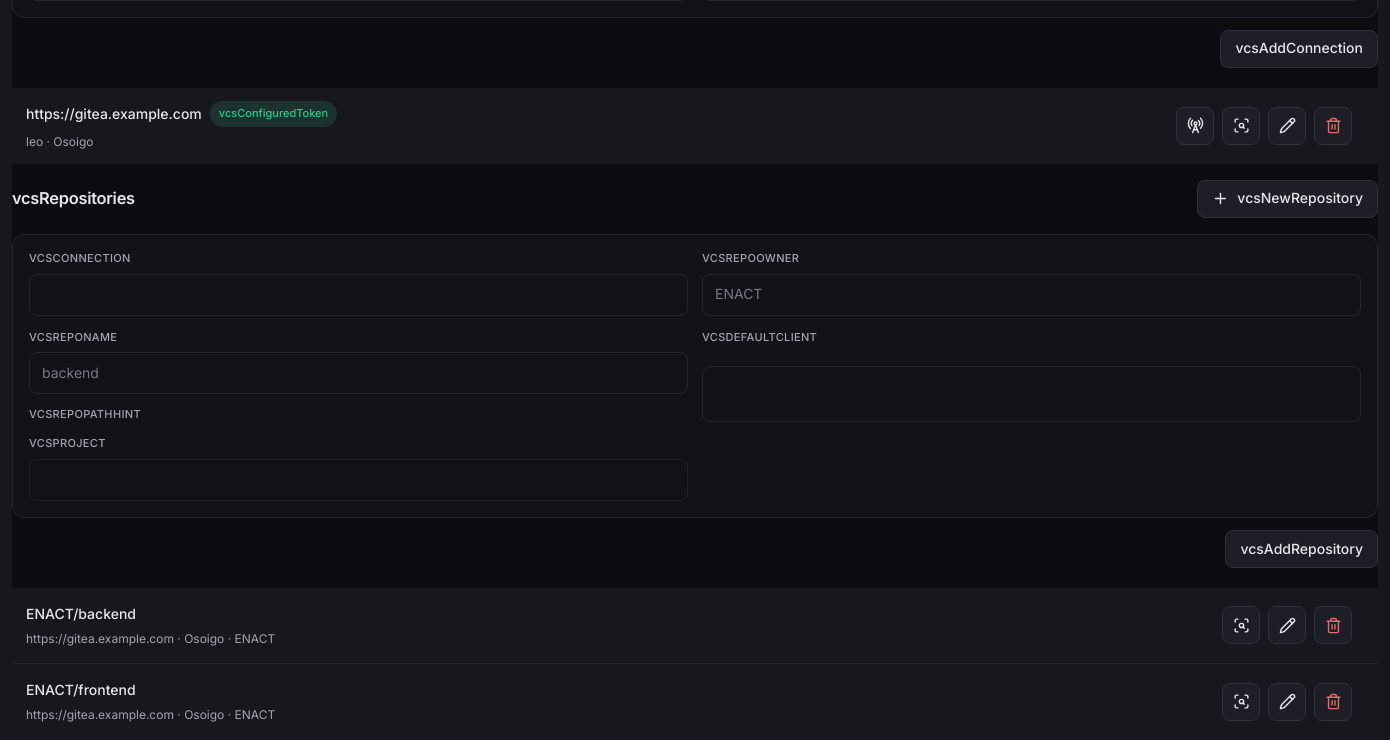
Test: VCSSettingsPanel › loads a repository including its project into the form
(page scrolled)
Check: the text "ENACT/backend" is shown, box [12,588,1378,664]
Click the button titled "edit" in the row of "backend" at (1287, 625), box [1268,606,1306,644]
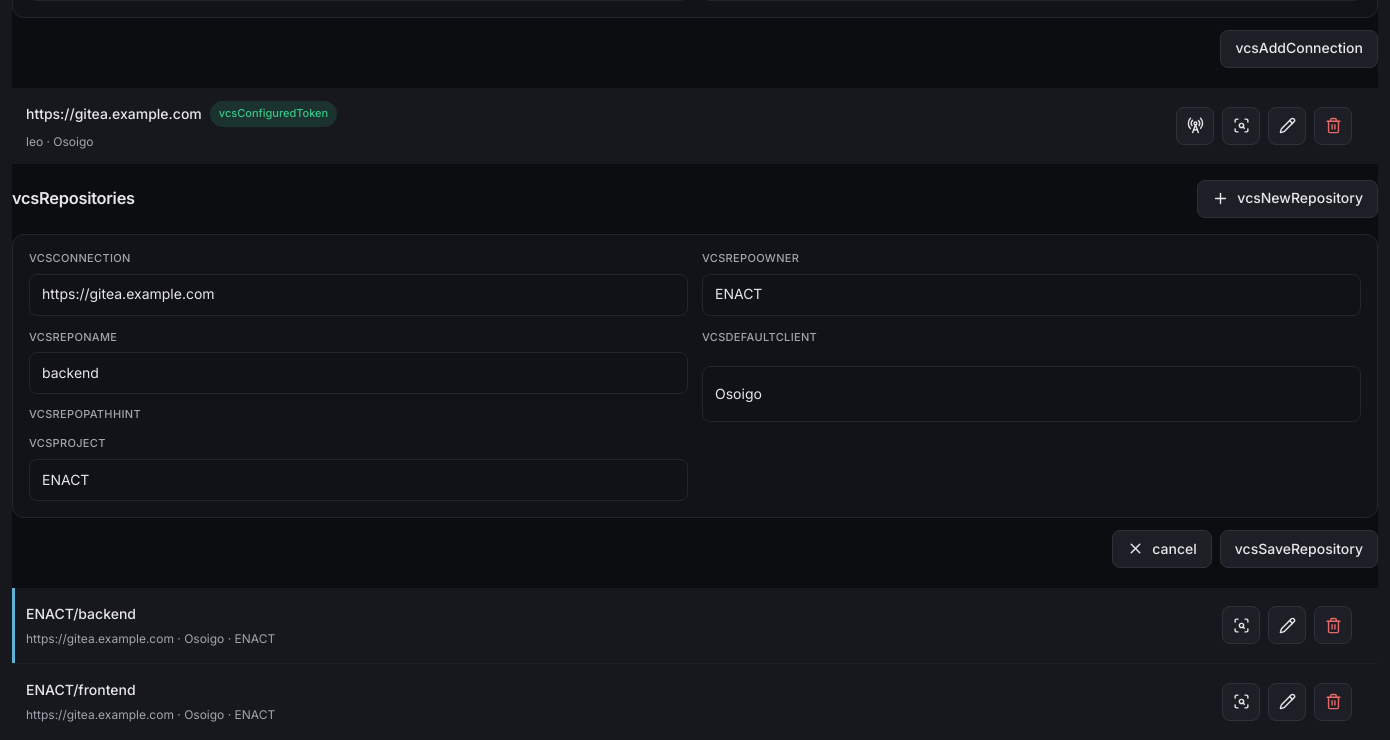
Check: the field with placeholder "ENACT" holds "ENACT", box [702,274,1361,316]
Check: the field with placeholder "backend" holds "backend", box [29,352,688,394]
Check: the dropdown labelled "vcsProject" shows "ENACT", box [29,459,688,501]
